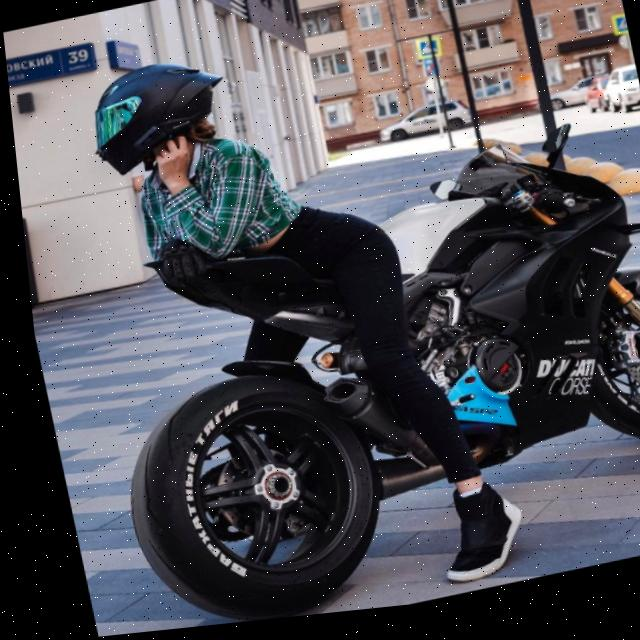helmet: (69, 51, 241, 187)
